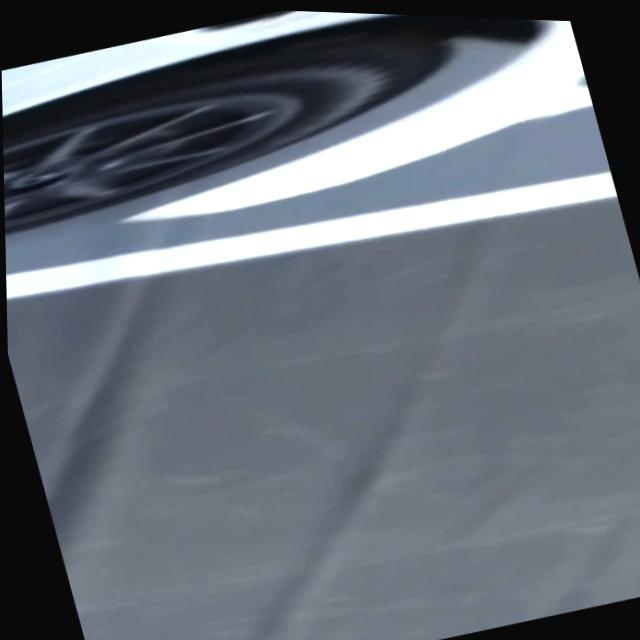left: (6, 170, 617, 299)
